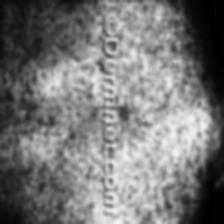Non-Cancerous Skin Condition: (0, 2, 94, 224), (124, 14, 194, 224)
